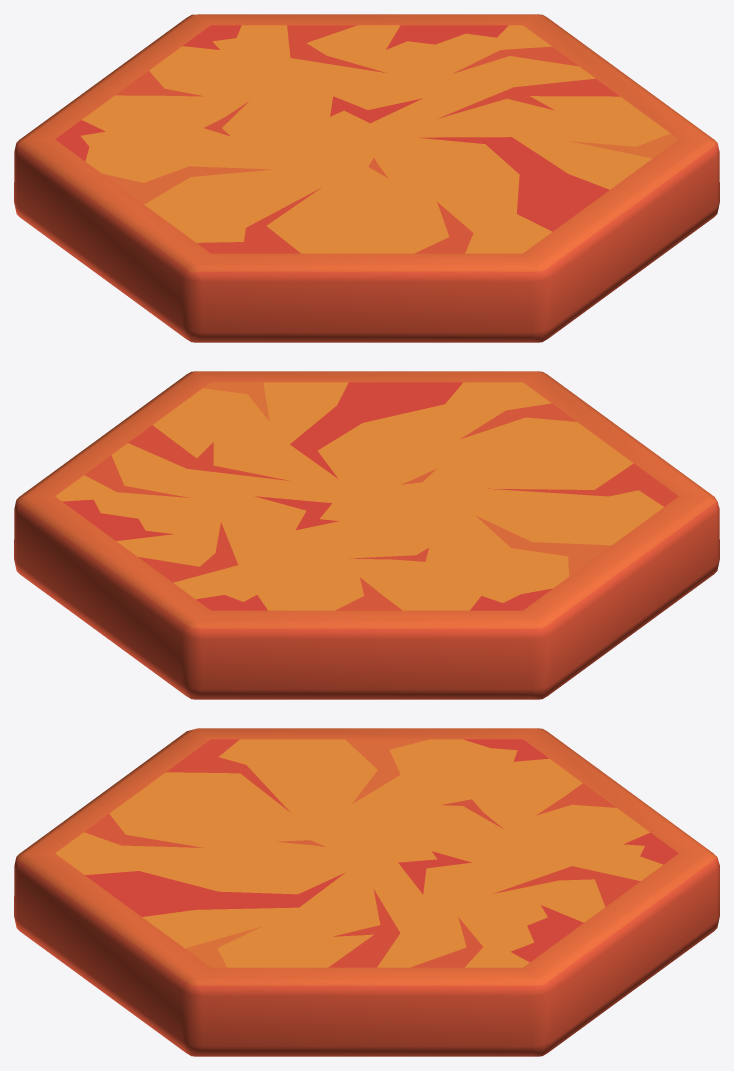
The model's file is Platform yellow 4.fbx.
3 views of the same model, one above another, from view 1: azimuth 30°, elevation 25°; view 2: azimuth 150°, elevation 25°; view 3: azimuth 270°, elevation 25° (orthographic).
Visible parts, largest first — view 1: Platform yellow 4; view 2: Platform yellow 4; view 3: Platform yellow 4.
Part boxes in pixels (x1=…): Platform yellow 4: x1=14, y1=14, x2=719, y2=342; Platform yellow 4: x1=14, y1=371, x2=719, y2=699; Platform yellow 4: x1=14, y1=728, x2=719, y2=1056.
Bounding box in the file's own units: 625 × 83.5 × 715.
